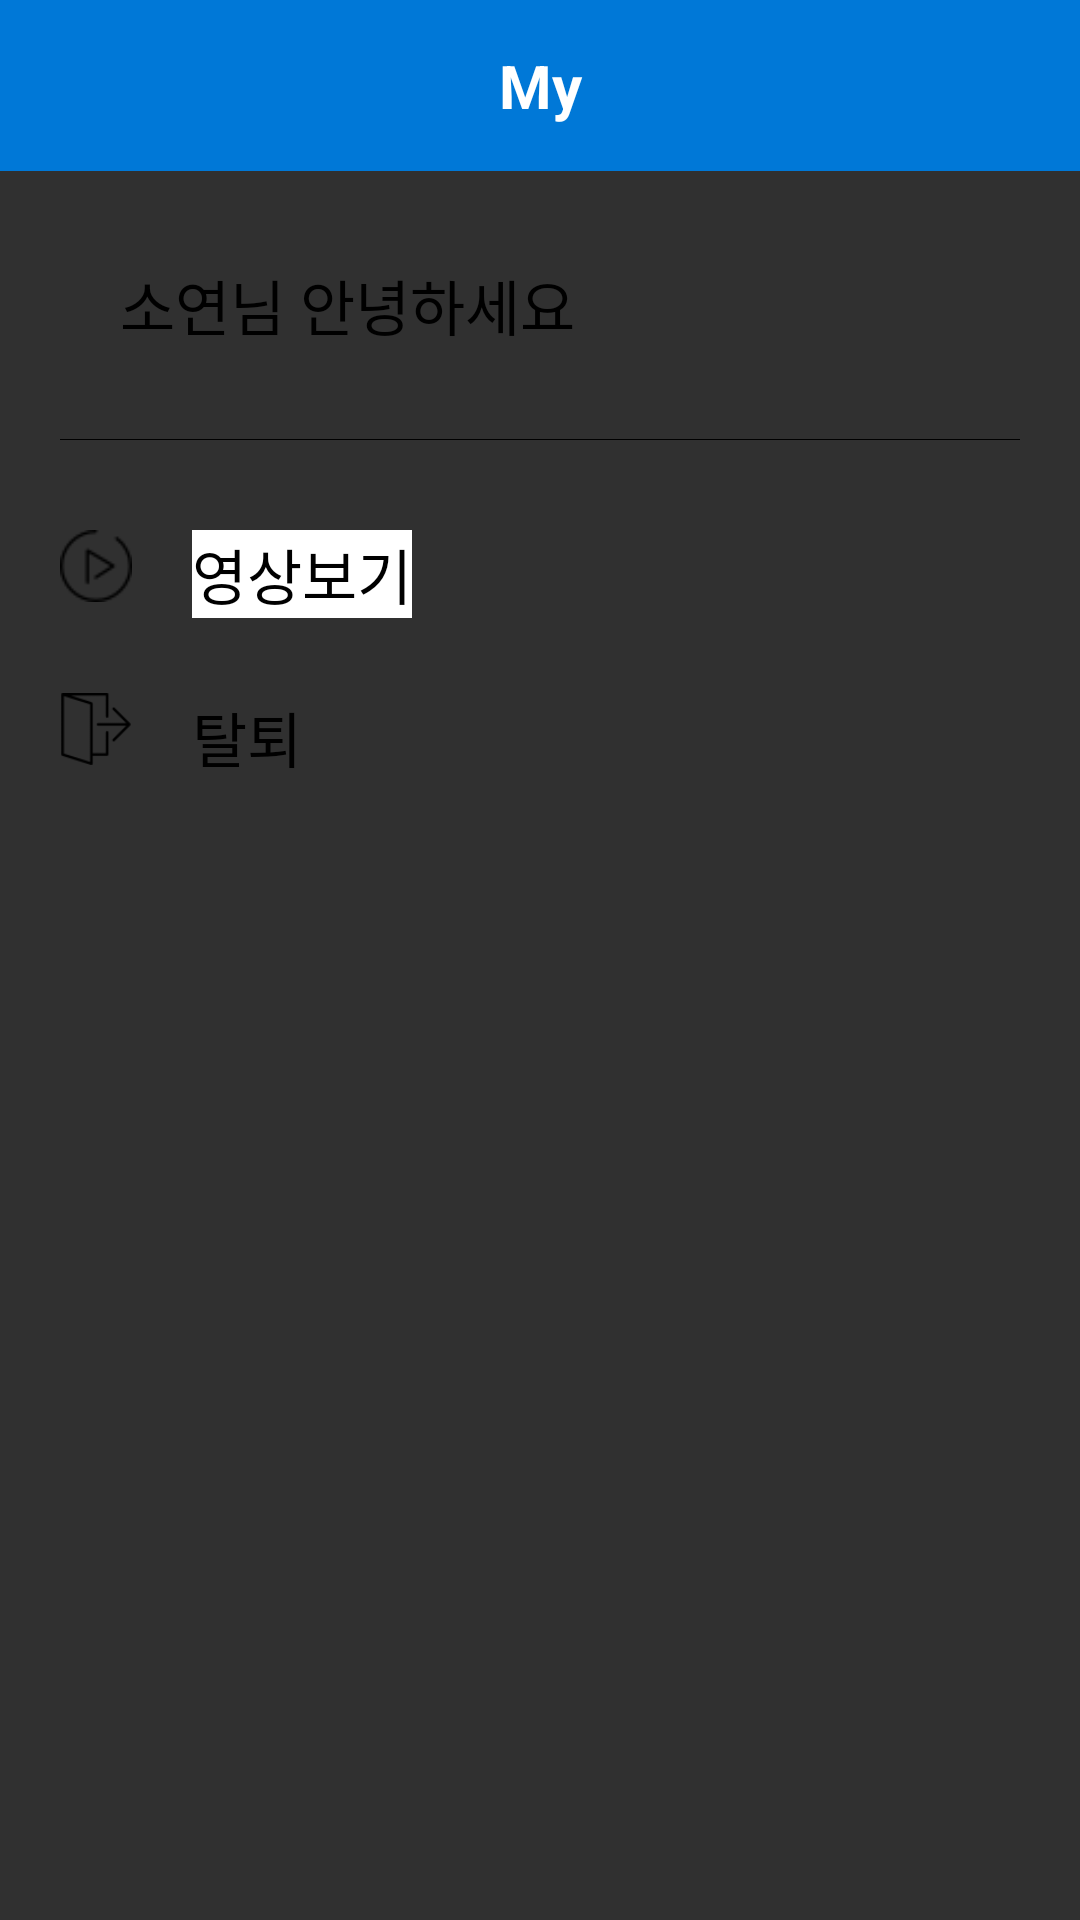

Icons on this 1080 × 1920 Android screen, each with the point to tap as point (x, y):
exit: point (96, 729)
playbutton: point (96, 566)
